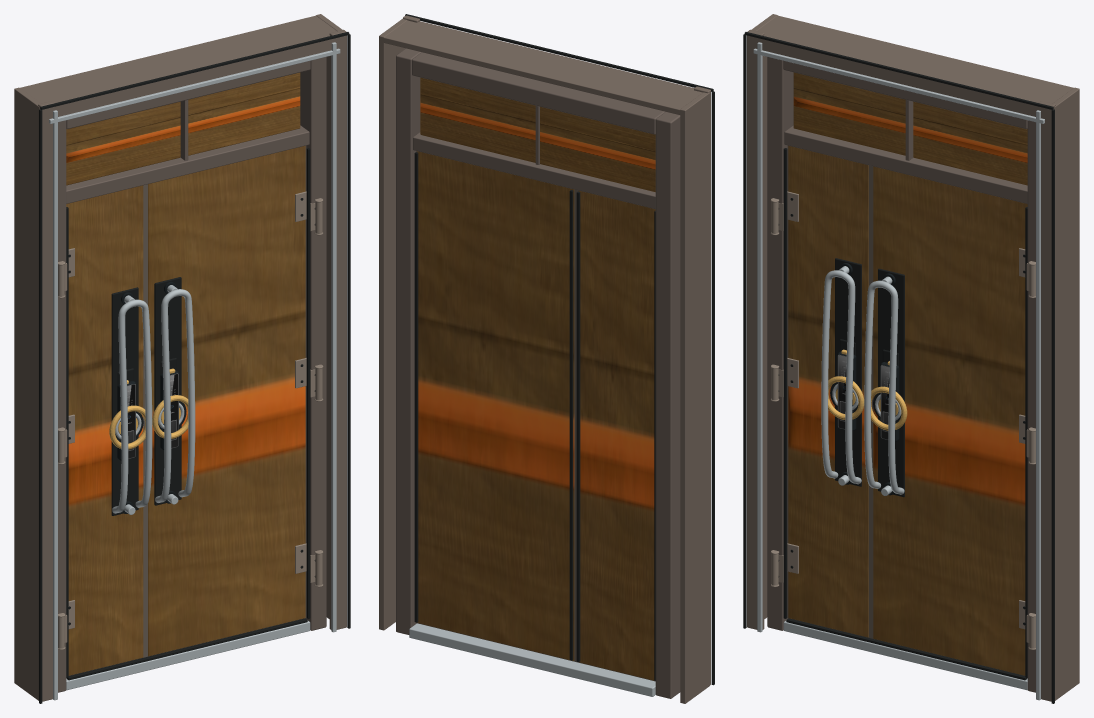
The model's file is yadilo-door-custom.glb.
3 renders of one model, left to right at view 1: azimuth 30°, elevation 25°; view 2: azimuth 150°, elevation 25°; view 3: azimuth 330°, elevation 25°, orthographic.
Parts seen in each view (by area): view 1: DoorLeaf_Main_Front, DoorLeaf_Child_Front, Casing_Left_WallReturn, Transom_OpaquePanel, Frame_Right_StructuralJamb, Casing_Right_FrontFlange, Casing_Top_WallReturn, Casing_Left_FrontFlange, Transom_BottomRail, Frame_Left_StructuralJamb, Casing_Right_InnerStep, Casing_Top_FrontFlange (+23 smaller); view 2: DoorLeaf_Main_Back, DoorLeaf_Child_Back, Casing_Left_WallReturn, Frame_Left_StructuralJamb, Transom_OpaquePanel, Frame_Right_StructuralJamb, Casing_Right_WallReturn, Casing_Top_WallReturn, Frame_Top_StructuralHead, Transom_BottomRail, Frame_Threshold, Casing_Left_ShadowReveal (+7 smaller); view 3: DoorLeaf_Main_Front, DoorLeaf_Child_Front, Casing_Right_WallReturn, Transom_OpaquePanel, Frame_Left_StructuralJamb, Casing_Left_FrontFlange, Casing_Top_WallReturn, Casing_Right_FrontFlange, Transom_BottomRail, Frame_Right_StructuralJamb, Casing_Left_InnerStep, Casing_Top_FrontFlange (+23 smaller).
Boxes of the visible parts, x1,y1,x2,y2 form: DoorLeaf_Main_Front: (148,145,305,656); DoorLeaf_Child_Front: (66,185,143,675); Casing_Left_WallReturn: (14,87,40,700); Transom_OpaquePanel: (66,72,300,185); Frame_Right_StructuralJamb: (300,57,326,630); Casing_Right_FrontFlange: (329,29,346,629); Casing_Top_WallReturn: (20,15,336,103); Casing_Left_FrontFlange: (38,101,54,701); Transom_BottomRail: (66,125,309,203); Frame_Left_StructuralJamb: (58,120,66,692); Casing_Right_InnerStep: (331,42,336,632); Casing_Top_FrontFlange: (42,36,346,121); DoorLeaf_Main_Back: (417,151,574,660); DoorLeaf_Child_Back: (578,190,655,680); Casing_Left_WallReturn: (680,92,710,703); Frame_Left_StructuralJamb: (655,112,680,698); Transom_OpaquePanel: (420,77,655,192); Frame_Right_StructuralJamb: (396,48,421,634); Casing_Right_WallReturn: (379,18,407,630); Casing_Top_WallReturn: (381,20,702,115); Frame_Top_StructuralHead: (412,52,665,134); Transom_BottomRail: (413,132,655,209); Frame_Threshold: (409,623,655,696); Casing_Left_ShadowReveal: (711,91,714,685); DoorLeaf_Main_Front: (873,166,1027,675); DoorLeaf_Child_Front: (788,145,868,637); Casing_Right_WallReturn: (1053,87,1079,700); Transom_OpaquePanel: (793,72,1027,185); Frame_Left_StructuralJamb: (767,57,793,630); Casing_Left_FrontFlange: (747,29,764,629); Casing_Top_WallReturn: (757,15,1073,103); Casing_Right_FrontFlange: (1039,101,1055,701); Transom_BottomRail: (784,125,1027,203); Frame_Right_StructuralJamb: (1027,120,1035,692); Casing_Left_InnerStep: (757,42,762,632); Casing_Top_FrontFlange: (747,37,1051,122).
Bounding box in the file's own units: 1.46 × 2.68 × 0.2642.
13 materials, 4 textured.
